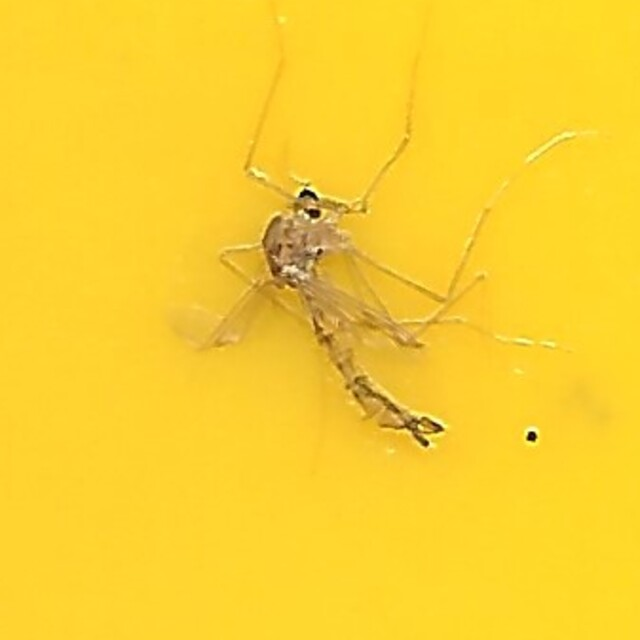Nematocera: (190, 183, 450, 457)
